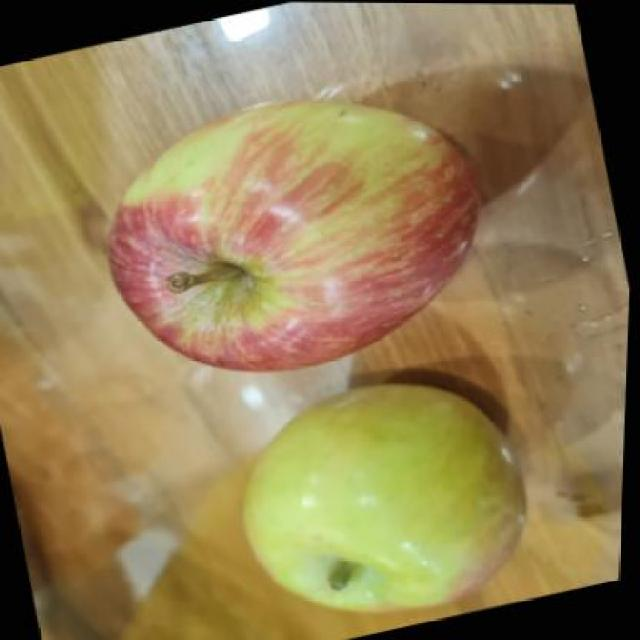Fresh Apple: (116, 113, 470, 364), (249, 397, 530, 620)
